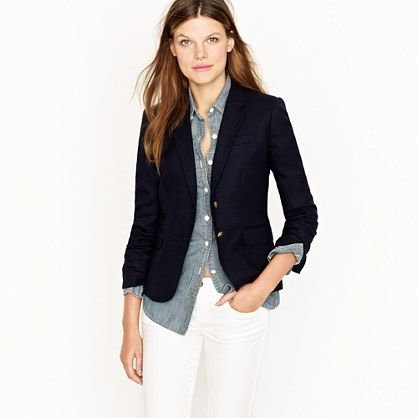F_W_suit jacket: (124, 90, 310, 291)
